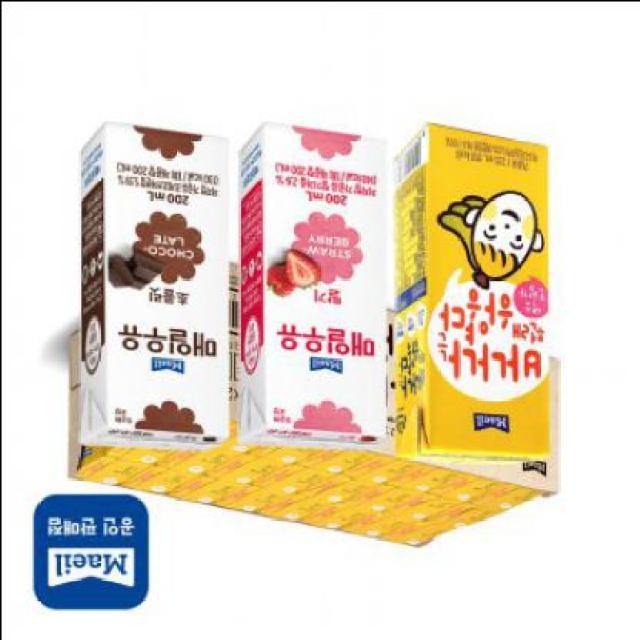tetra: (387, 114, 573, 472), (63, 115, 228, 463), (225, 118, 388, 467)
